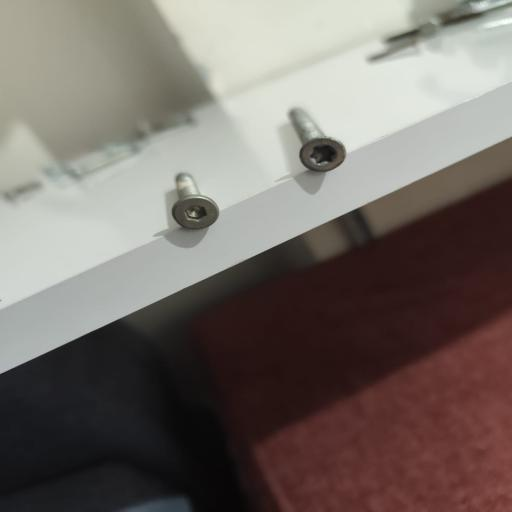Hex-Allen: (173, 187, 223, 228)
Torx: (297, 134, 350, 174)
